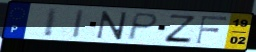F: (194, 15, 230, 45)
I: (42, 6, 60, 38), (71, 8, 86, 40)
N: (95, 10, 130, 41)
P: (126, 12, 161, 41)
Z: (163, 13, 198, 44)
